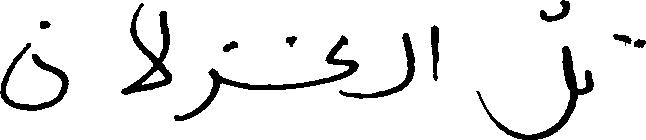X: (477, 0, 575, 139), (0, 16, 65, 115), (177, 36, 235, 125), (288, 30, 356, 102), (123, 0, 169, 99), (585, 29, 645, 98), (398, 28, 413, 96), (431, 20, 437, 85)
